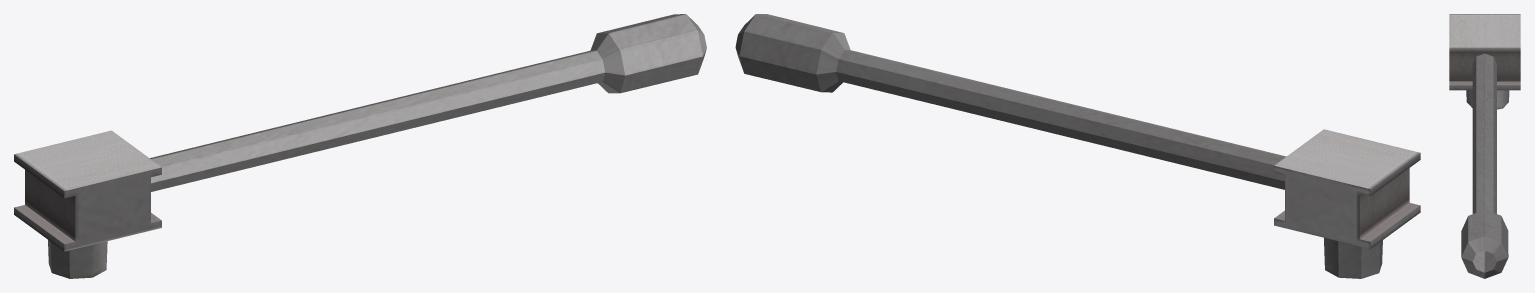
Rendered from substation_ht_1005_05+.obj.
3 renders of one model, left to right at view 1: azimuth 30°, elevation 25°; view 2: azimuth 150°, elevation 25°; view 3: azimuth 270°, elevation 25°, orthographic. The views are drawn at different scales.
Parts seen in each view (by area): view 1: _044; view 2: _044; view 3: _044.
Boxes of the visible parts, box(x1,y1,x2,y2) form: _044: box(14, 14, 706, 278); _044: box(735, 14, 1420, 278); _044: box(1449, 14, 1520, 278).
Bounding box in the file's own units: 8.39 × 1.29 × 1.11.
Materials: 1 (1 with a texture image).
